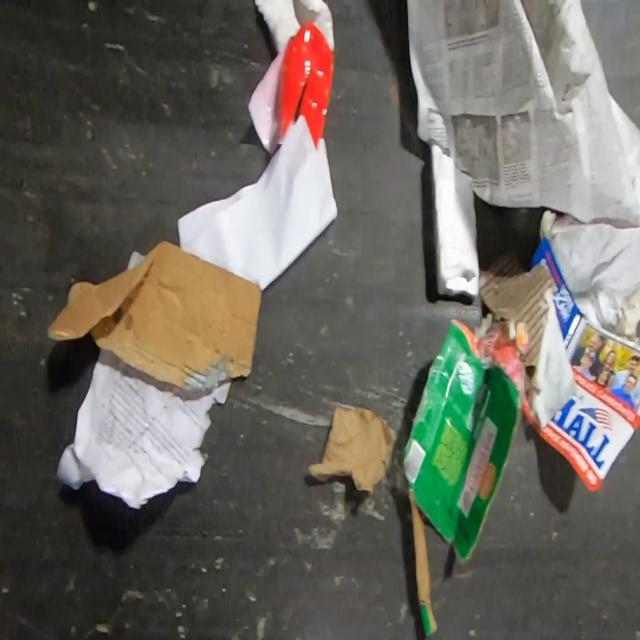cardboard: (399, 316, 534, 638), (45, 238, 263, 391), (478, 247, 578, 432), (538, 208, 640, 346), (306, 403, 399, 493), (253, 0, 336, 52)
rigid_plastic: (247, 19, 336, 157)
